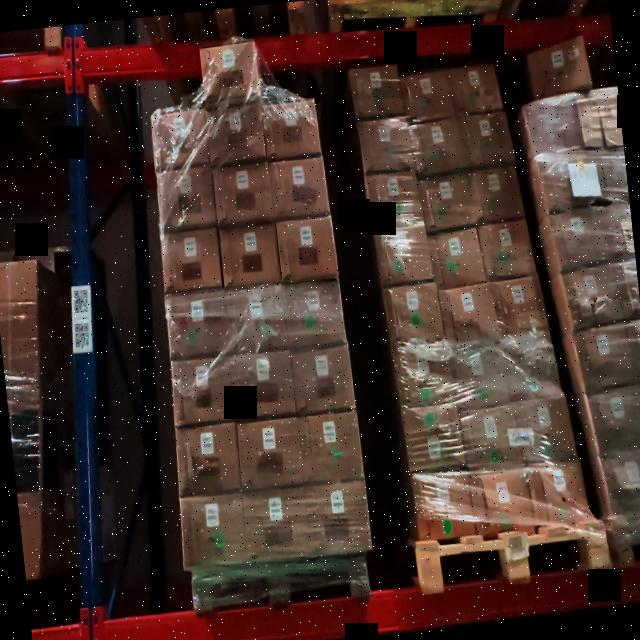box: (302, 481, 370, 557), (179, 492, 247, 568), (241, 486, 308, 560), (236, 417, 302, 490), (297, 413, 364, 484), (176, 422, 242, 494), (170, 355, 235, 426), (164, 288, 228, 358), (291, 344, 354, 414), (228, 352, 294, 416), (225, 284, 286, 352), (281, 278, 341, 346), (471, 468, 531, 536), (527, 35, 591, 98), (276, 215, 337, 281), (414, 472, 474, 538), (160, 227, 222, 290), (154, 167, 216, 230), (404, 402, 461, 470), (219, 223, 280, 286), (516, 394, 570, 464), (504, 331, 556, 401), (443, 284, 497, 351), (204, 101, 263, 162), (268, 156, 326, 218), (212, 162, 270, 224), (385, 284, 443, 346), (462, 405, 518, 469), (528, 462, 584, 526), (261, 98, 319, 159), (580, 322, 631, 391), (150, 108, 208, 168), (200, 43, 258, 102), (376, 224, 431, 286), (396, 342, 451, 404), (451, 345, 505, 407), (593, 385, 640, 455), (421, 170, 473, 232), (356, 118, 412, 175), (480, 218, 532, 278), (568, 264, 616, 328), (432, 228, 482, 286), (556, 208, 604, 268), (493, 278, 544, 334), (414, 119, 464, 176), (469, 166, 519, 223), (367, 172, 419, 226), (402, 68, 452, 122), (544, 152, 590, 210), (523, 104, 582, 149), (351, 64, 400, 118), (460, 114, 509, 168), (452, 64, 500, 115)
